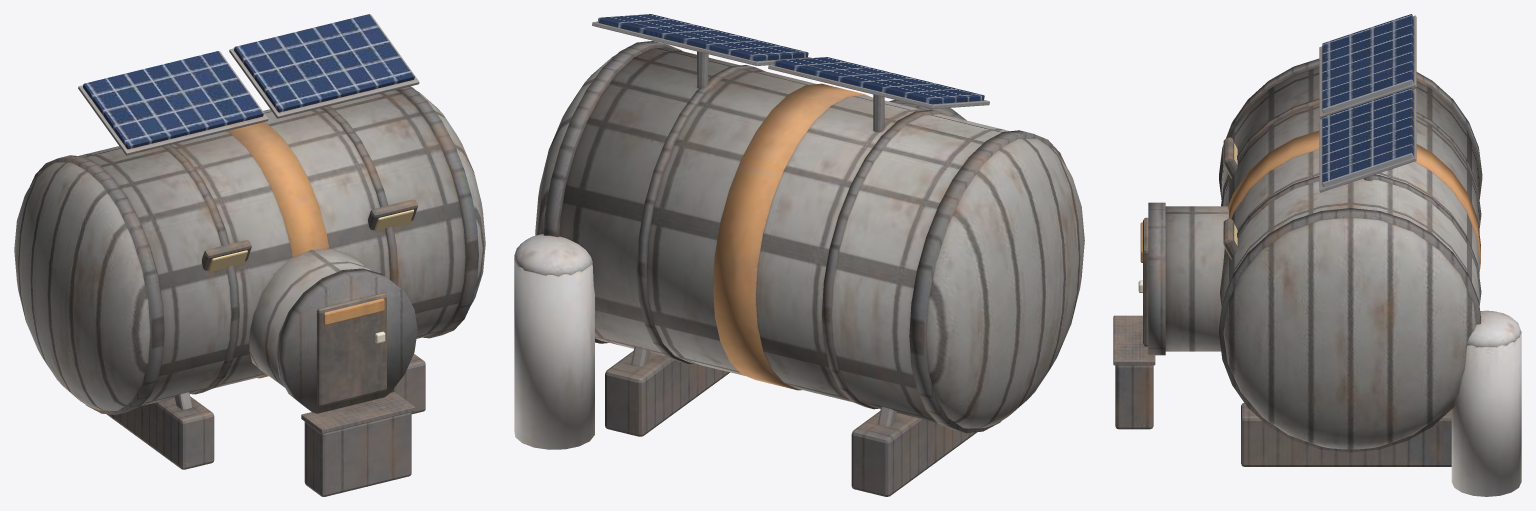
File: house_0.glb
The picture shows the model from 3 angles, left to right: view 1: azimuth 30°, elevation 25°; view 2: azimuth 150°, elevation 25°; view 3: azimuth 270°, elevation 25°; orthographic projection. The views are drawn at different scales.
Parts seen in each view (by area): view 1: house_0; view 2: house_0; view 3: house_0.
Boxes of the visible parts, x1,y1,x2,y2 form: house_0: [14, 14, 485, 496]; house_0: [514, 14, 1084, 496]; house_0: [1113, 14, 1521, 496].
Size of the model in its own units: 2.66 by 2.09 by 2.34.
Materials: 1 (1 with a texture image).
